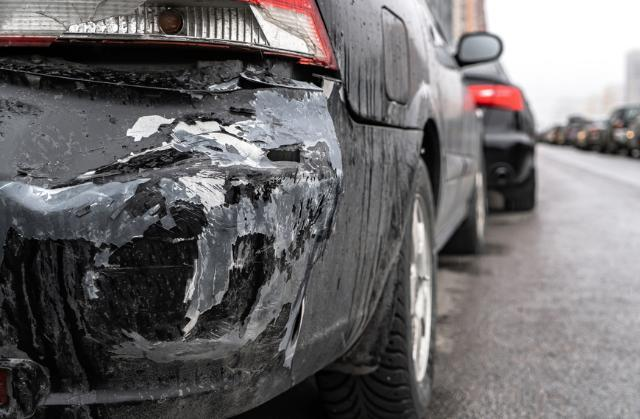Bumper: (0, 52, 343, 419)
Light: (0, 0, 348, 73)
